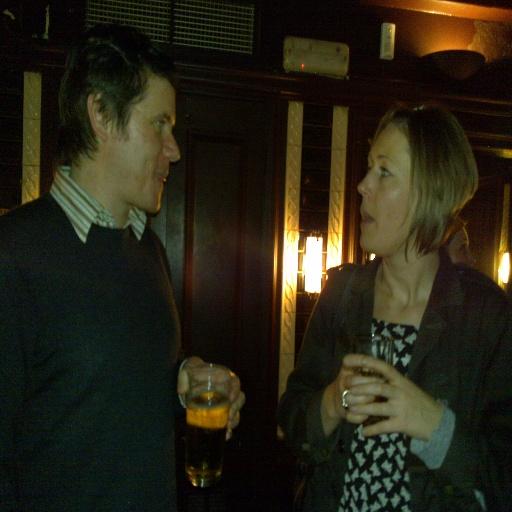hand: (176, 354, 246, 442), (327, 362, 387, 421)
